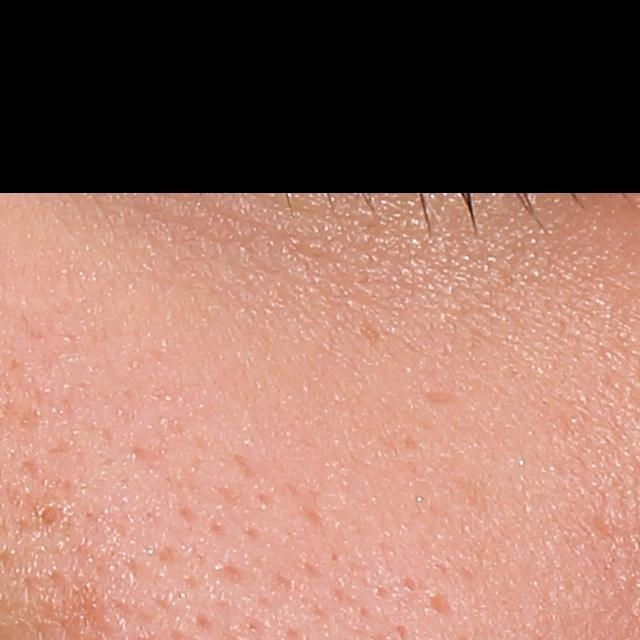atrophic_scar: (427, 590, 457, 620)
comedo: (35, 500, 71, 534)
